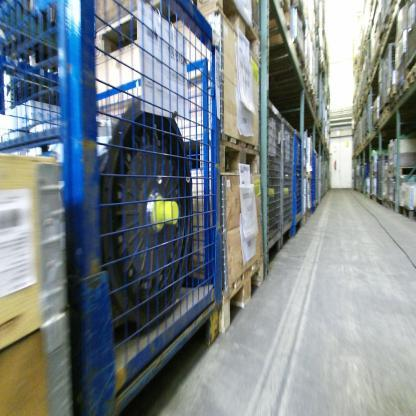pallets: (210, 259, 271, 334), (361, 190, 415, 227)
